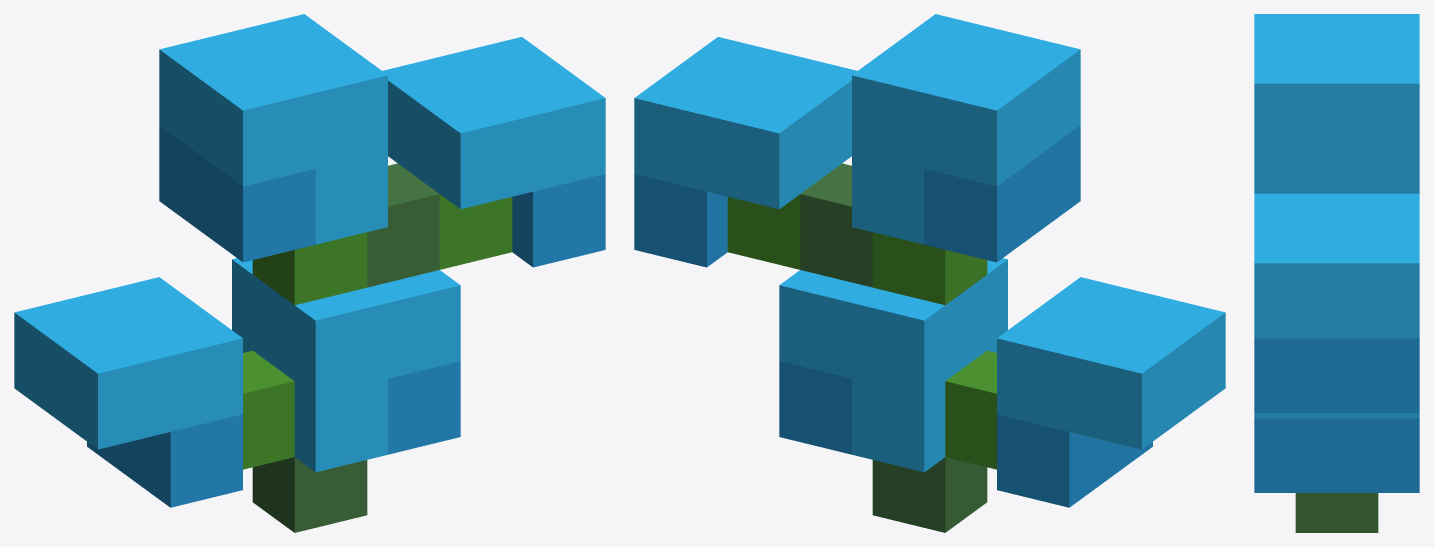
The model's file is Bluebell.glb.
The picture shows the model from 3 angles, left to right: view 1: azimuth 30°, elevation 25°; view 2: azimuth 150°, elevation 25°; view 3: azimuth 270°, elevation 25°; orthographic projection.
Visible parts, largest first — view 1: generated(Clone); view 2: generated(Clone); view 3: generated(Clone).
Part boxes in pixels (bbox=[...]): generated(Clone): bbox=[14, 14, 605, 532]; generated(Clone): bbox=[634, 14, 1225, 532]; generated(Clone): bbox=[1254, 14, 1419, 532].
Bounding box in the file's own units: 14 × 12 × 4.
Materials: 1 (1 with a texture image).
